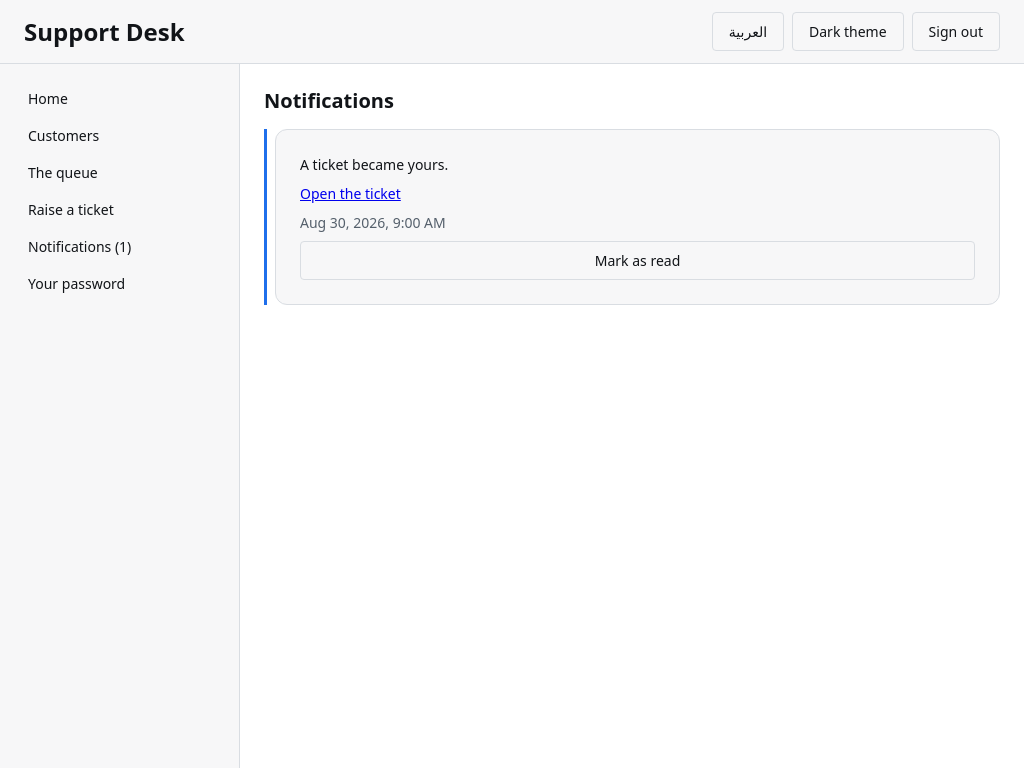
Scenario: a failed mark says so and leaves the row unread
Expected: the text "A ticket became yours." is shown, [300,155,448,174]
Click the button "Mark as read" at (638, 260), box [300,241,975,280]
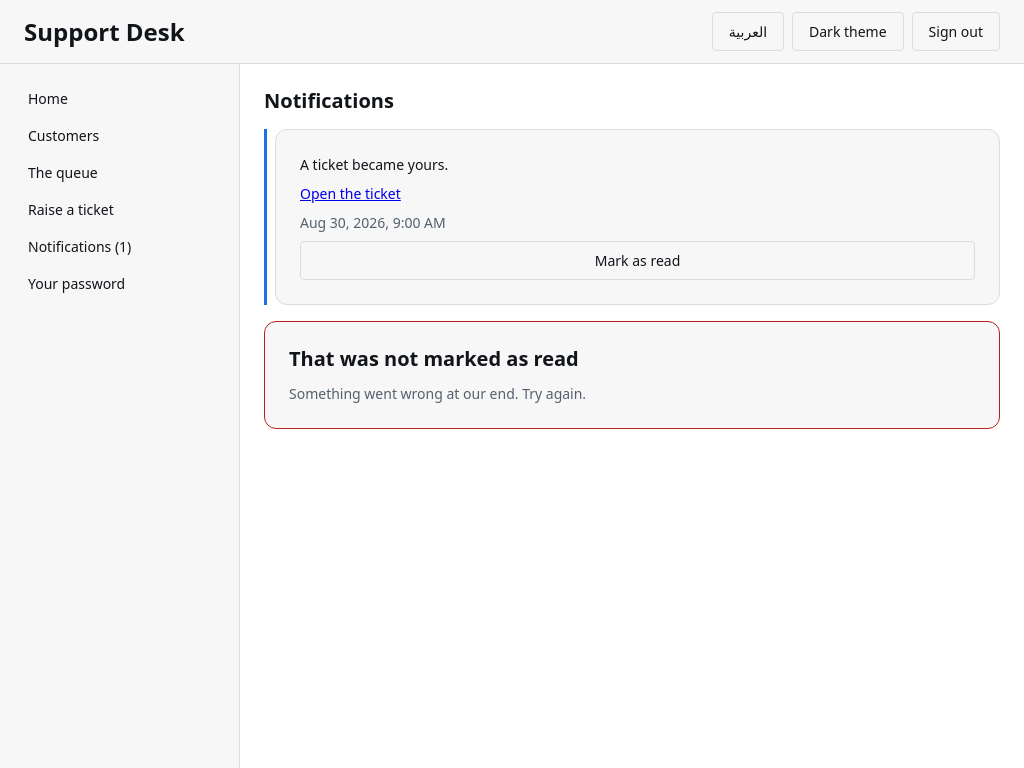
Result: the heading "That was not marked as read" is shown at [289,345,579,372]
